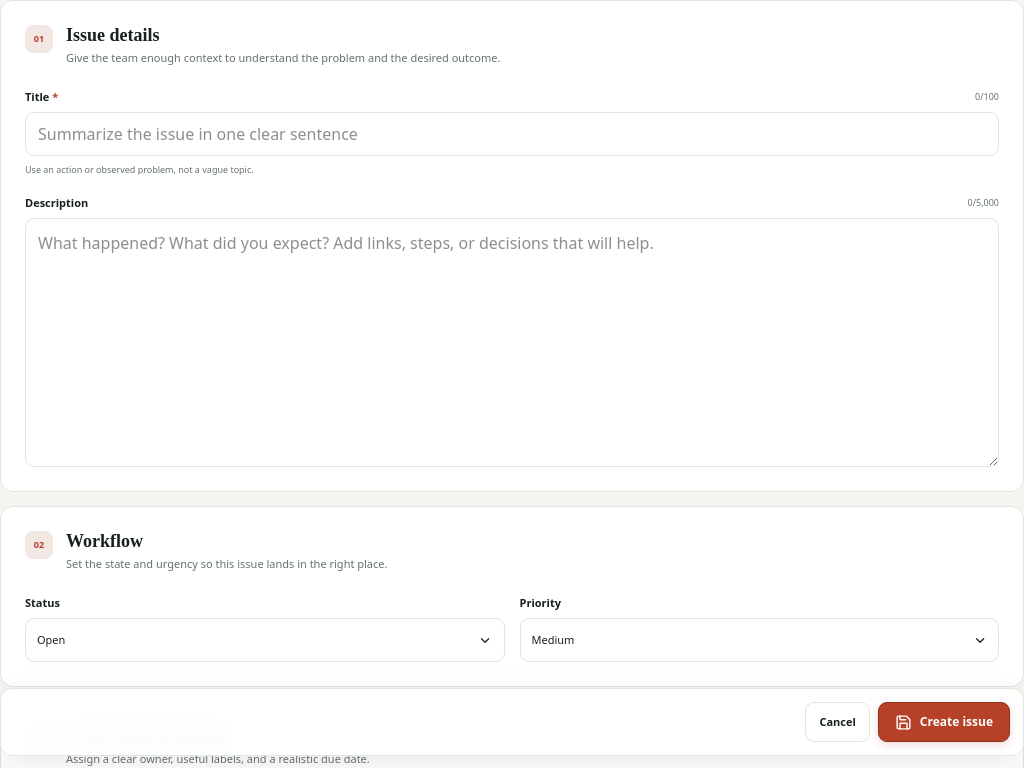
IssueForm › shows and focuses the required title error
Click the button "Create issue": (944, 722) [878, 702, 1010, 742]
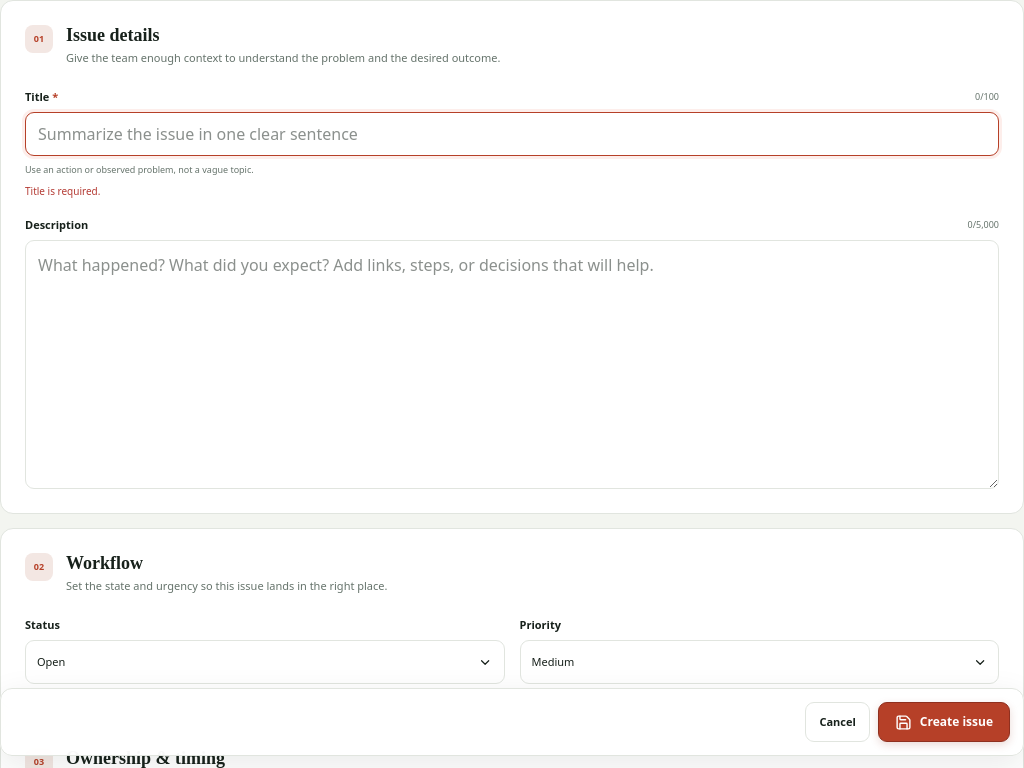
Now the text "Title is required." is shown, box [25, 184, 100, 198]
